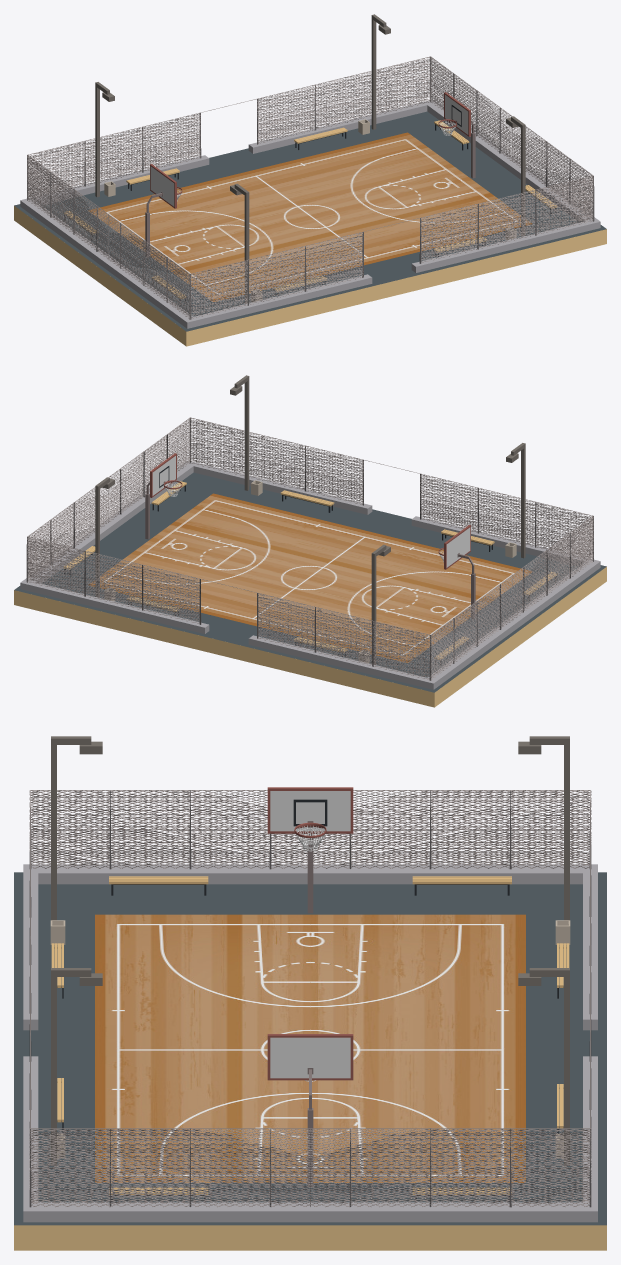
Rendered from basketball-court.glb.
3 views of the same model, one above another, from view 1: azimuth 30°, elevation 25°; view 2: azimuth 150°, elevation 25°; view 3: azimuth 270°, elevation 25° (orthographic). The views are drawn at different scales.
Parts seen in each view (by area): view 1: Base, Court, Light Pillars, Basketball_Stand, Mesh_Bars, Benches, Dust_Bin; view 2: Base, Court, Light Pillars, Basketball_Stand, Mesh_Bars, Benches, Dust_Bin; view 3: Base, Court, Basketball_Stand, Light Pillars, Benches, Mesh_Bars, Dust_Bin.
Boxes of the visible parts, x1,y1,x2,y2 form: Base: (14,57,606,346); Court: (88,132,532,301); Light Pillars: (95,14,525,303); Basketball_Stand: (145,92,475,257); Mesh_Bars: (27,56,593,296); Benches: (63,120,557,305); Dust_Bin: (104,119,516,302); Base: (14,418,606,707); Court: (88,493,531,662); Light Pillars: (95,375,525,664); Basketball_Stand: (145,453,475,618); Mesh_Bars: (27,417,593,657); Benches: (63,481,557,665); Dust_Bin: (104,480,516,663); Base: (14,790,606,1250); Court: (95,914,525,1182); Basketball_Stand: (267,787,353,1186); Light Pillars: (51,736,569,1165); Benches: (51,876,569,1202); Mesh_Bars: (30,790,590,1168); Dust_Bin: (50,920,570,1158).
Bounding box in the file's own units: 5.79 × 1.69 × 4.11.
13 materials, 1 textured.
